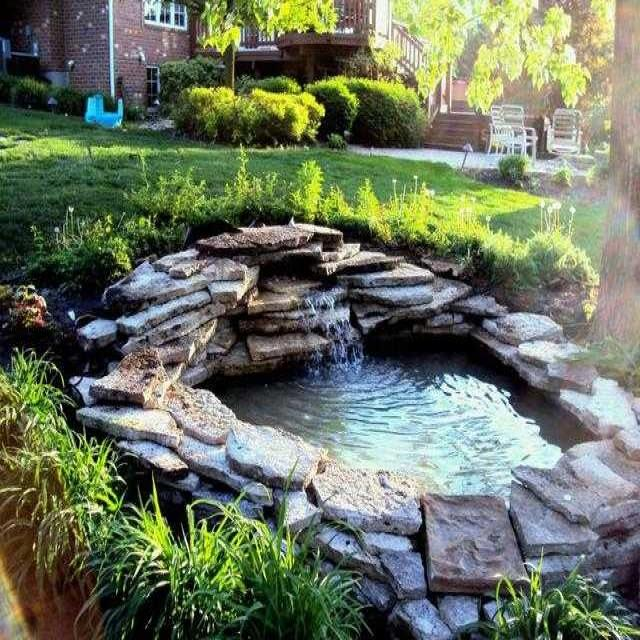Ponds: (78, 226, 640, 632)
